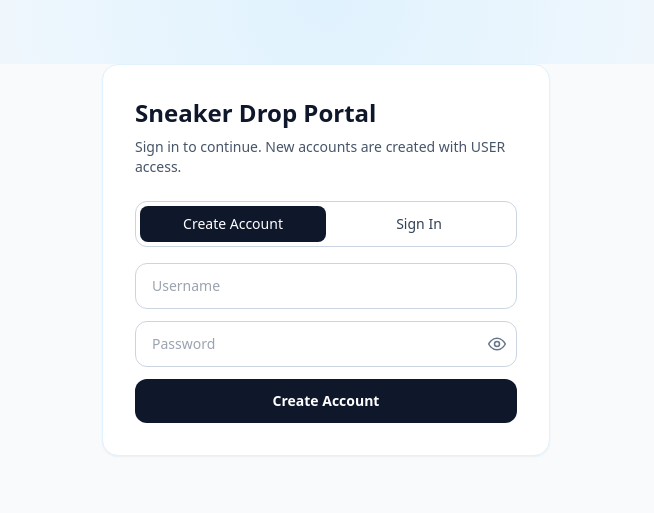
CreateUserForm › shows inline validation errors when submitted empty
Click the 2nd button "Create Account" at (326, 401), box [135,379,517,423]
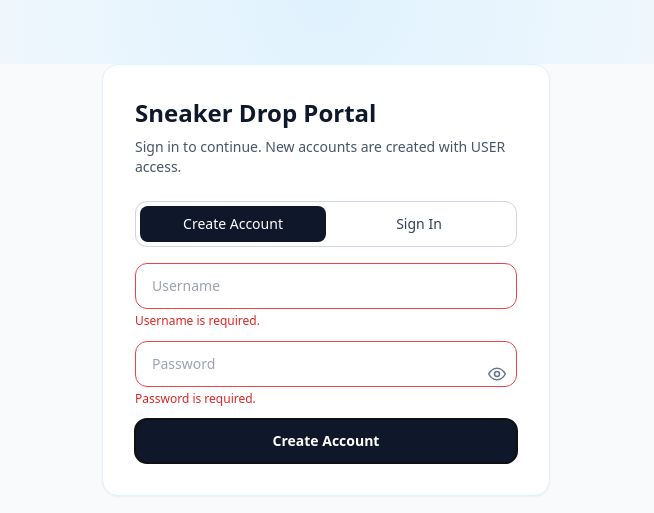
Check: the text "Username is required." is shown, box [135,312,260,329]
Check: the text "Password is required." is shown, box [135,390,256,407]
